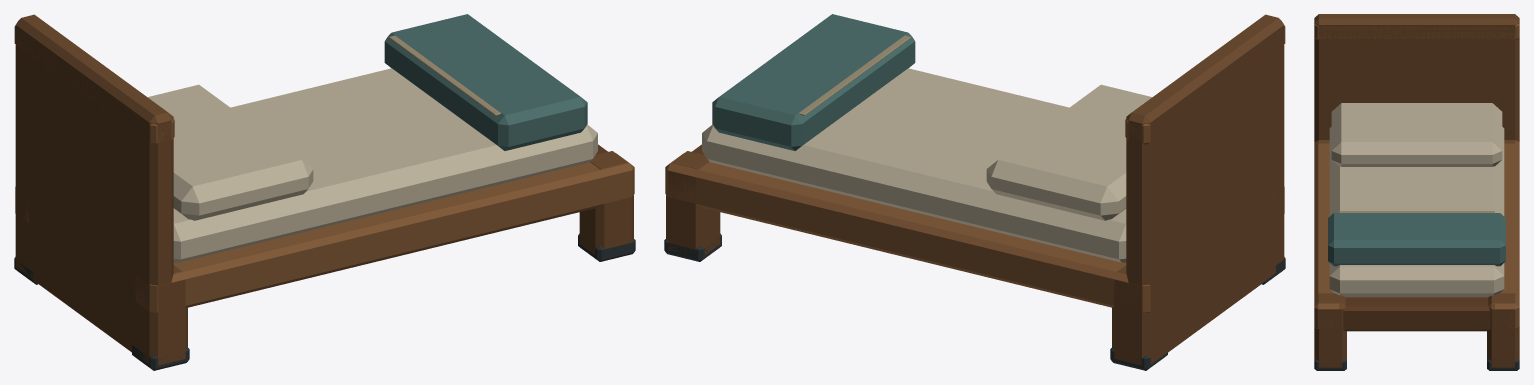
The model's file is dwarf_bunk.glb.
The picture shows the model from 3 angles, left to right: view 1: azimuth 30°, elevation 25°; view 2: azimuth 150°, elevation 25°; view 3: azimuth 270°, elevation 25°; orthographic projection. The views are drawn at different scales.
Parts seen in each view (by area): view 1: dwarf_bunk; view 2: dwarf_bunk; view 3: dwarf_bunk.
Part boxes in pixels (x1=…): dwarf_bunk: x1=14, y1=14, x2=635, y2=370; dwarf_bunk: x1=664, y1=14, x2=1285, y2=370; dwarf_bunk: x1=1314, y1=14, x2=1519, y2=370.
Size of the model in its own units: 4 by 2 by 2.
